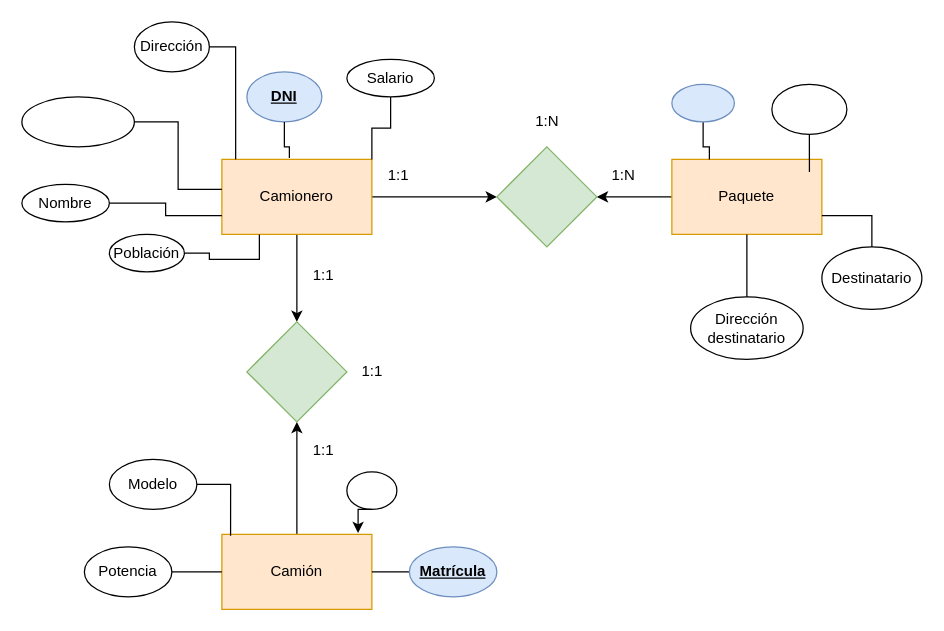
Some shapes in this 944 by 631 pixel diagram are drawn without their labels. The shapes that lost their labels are listed below. From the top down, each one's box as (x1, y1, x2, y2) in pixels, then its label:
(21, 96, 134, 147): Teléfono
(671, 83, 734, 122): Código
(771, 83, 847, 134): Descripción
(496, 146, 597, 247): Reparte
(246, 321, 347, 422): Conduce
(346, 471, 397, 509): Tipo
